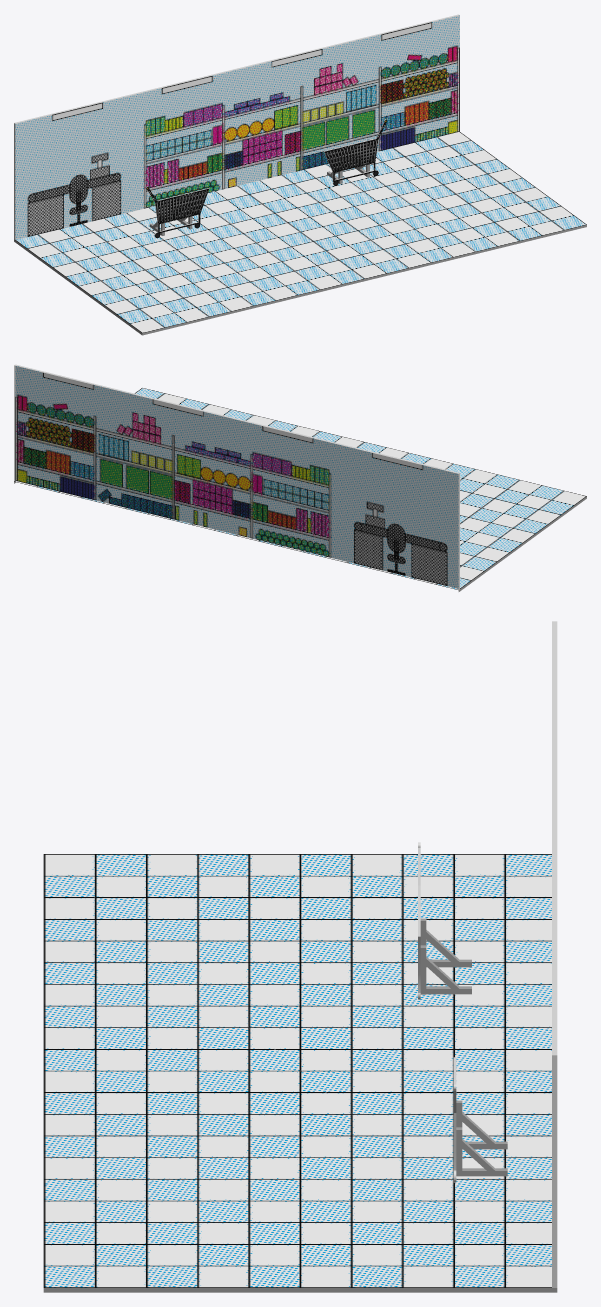
Rendered from Tiles.fbx.
3 renders of one model, top to bottom at view 1: azimuth 30°, elevation 25°; view 2: azimuth 150°, elevation 25°; view 3: azimuth 270°, elevation 25°, orthographic. The views are drawn at different scales.
Visible parts, largest first — view 1: Supermarché1; view 2: Supermarché1; view 3: Supermarché1.
Part boxes in pixels (x1,y1,x2,y2): Supermarché1: (14,14,586,335); Supermarché1: (14,364,586,591); Supermarché1: (43,621,557,1292).
Bounding box in the file's own units: 20 × 5.1 × 10.
